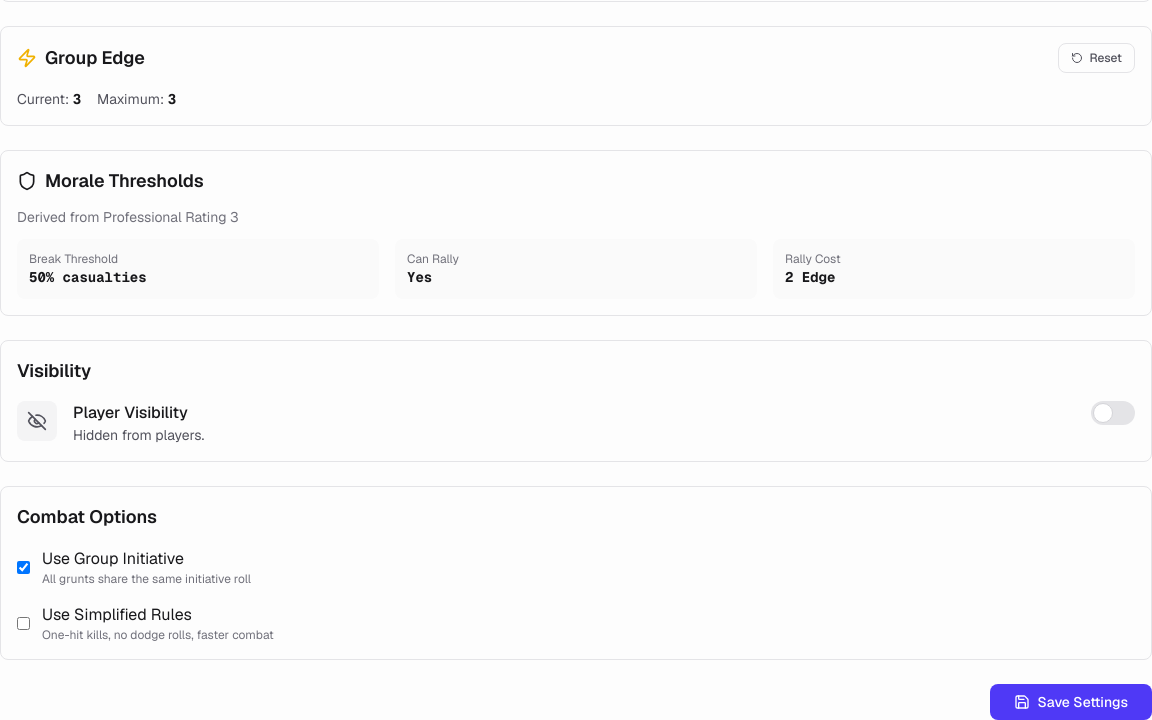
it: GruntTeamSettingsTab › should show error on save failure
This screenshot has width=1152, height=720.
(page scrolled)
Click the button "Save Settings". click: click(1071, 702)
box: x1=990 y1=684 x2=1151 y2=719
(page scrolled)
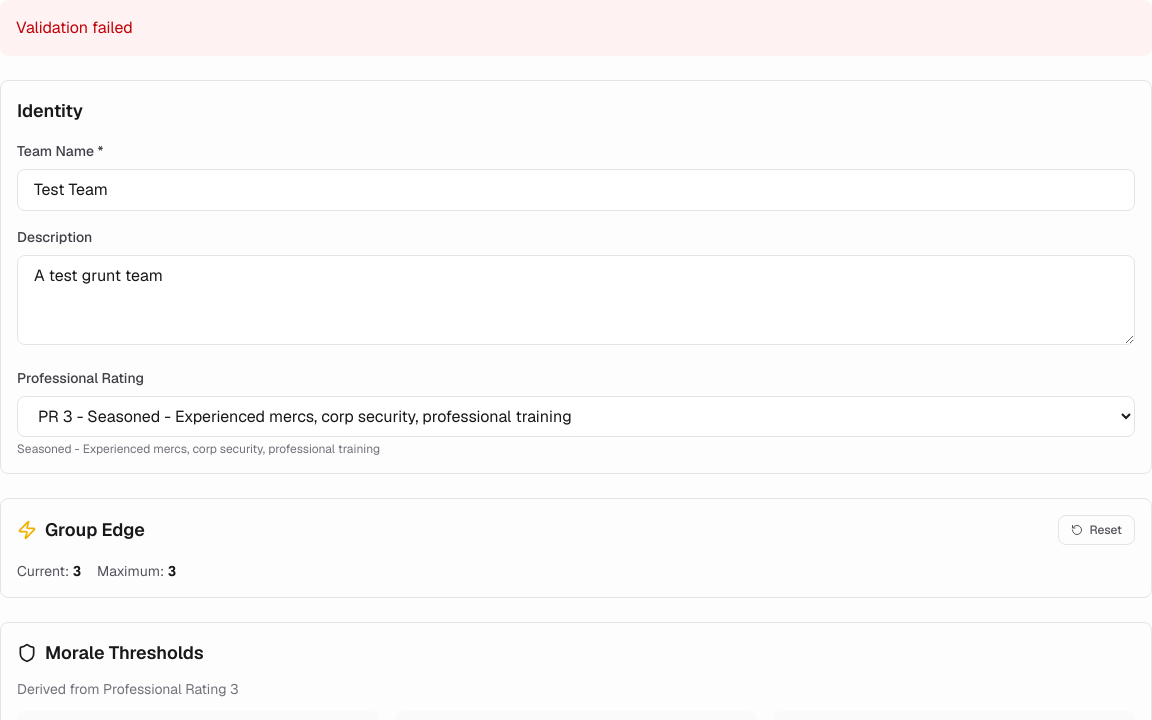
Expected: the text "Validation failed" is shown, x1=16 y1=17 x2=133 y2=38
